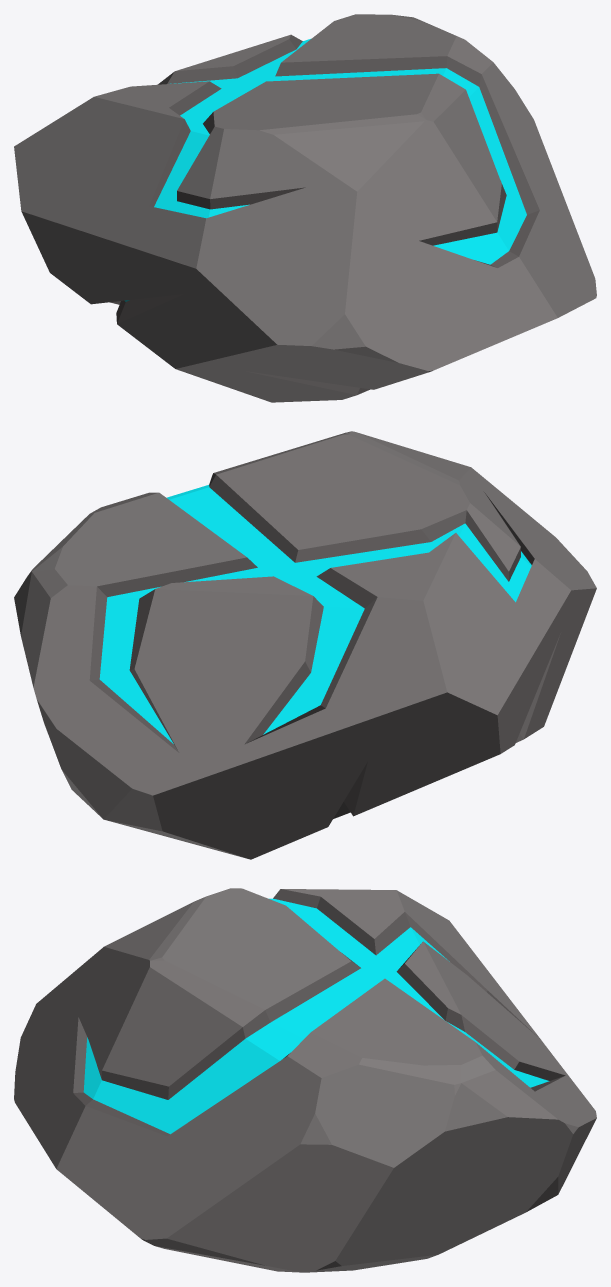
The model's file is Stone_Magic_02.glb.
The picture shows the model from 3 angles, top to bottom: view 1: azimuth 30°, elevation 25°; view 2: azimuth 150°, elevation 25°; view 3: azimuth 270°, elevation 25°; orthographic projection. The views are drawn at different scales.
Visible parts, largest first — view 1: Stone_Magic_02; view 2: Stone_Magic_02; view 3: Stone_Magic_02.
Part boxes in pixels (bbox=[...]): Stone_Magic_02: bbox=[14, 14, 596, 402]; Stone_Magic_02: bbox=[14, 431, 596, 859]; Stone_Magic_02: bbox=[14, 888, 596, 1272].
Size of what is drawn, in the model's own units: 3.59 by 2.12 by 4.05.
Materials: 2 (2 with a texture image).
